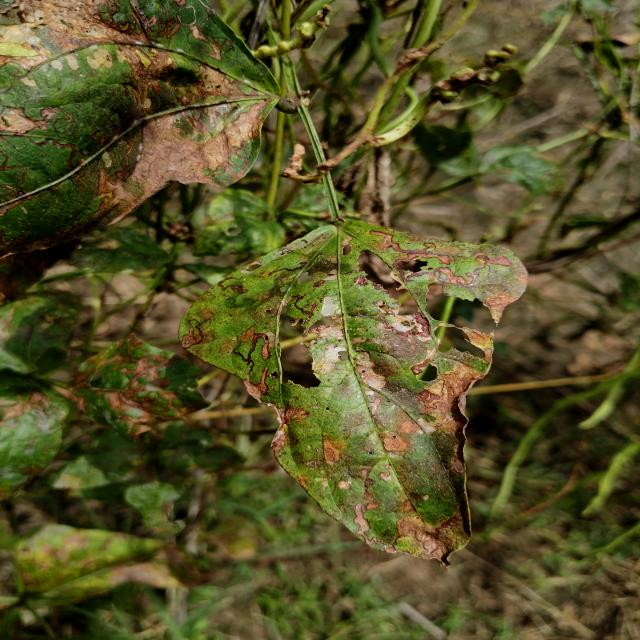leaf-moderate: (179, 221, 528, 566)
